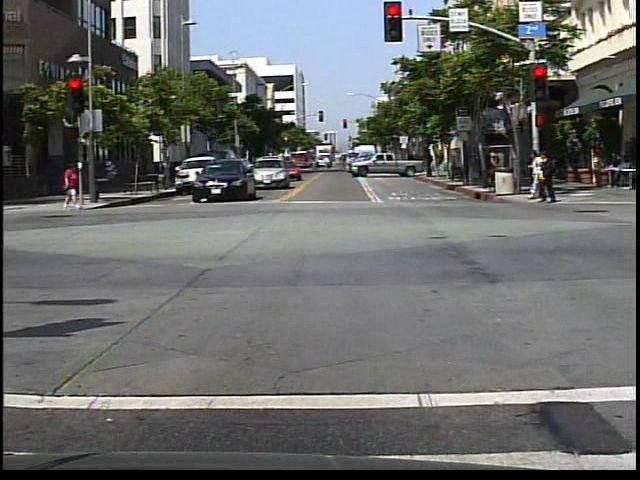person: (533, 150, 562, 208), (525, 145, 546, 201), (608, 149, 633, 193), (62, 161, 82, 213)
